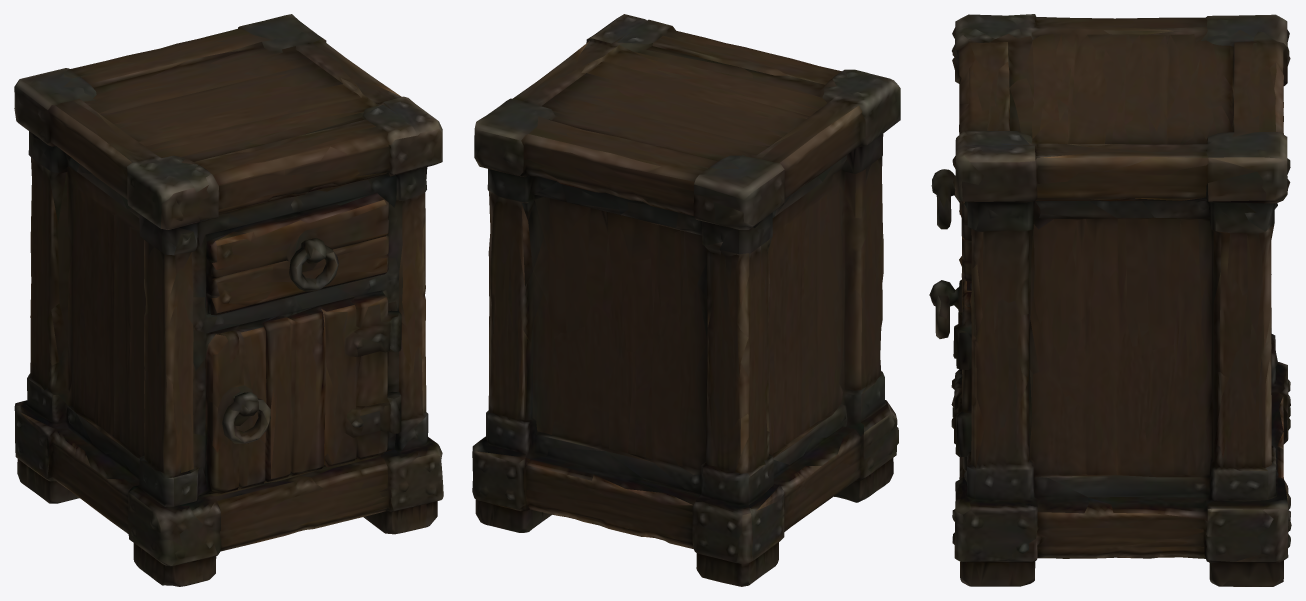
Rendered from Dresser_01.fbx.
3 renders of one model, left to right at view 1: azimuth 30°, elevation 25°; view 2: azimuth 150°, elevation 25°; view 3: azimuth 270°, elevation 25°, orthographic. The views are drawn at different scales.
Parts seen in each view (by area): view 1: Dressers.001; view 2: Dressers.001; view 3: Dressers.001.
Part boxes in pixels (x1,y1,x2,y2): Dressers.001: (14, 14, 443, 586); Dressers.001: (472, 14, 900, 586); Dressers.001: (929, 14, 1291, 586).
Size of the model in its own units: 85.47 by 116 by 87.39.
Materials: 1 (1 with a texture image).
